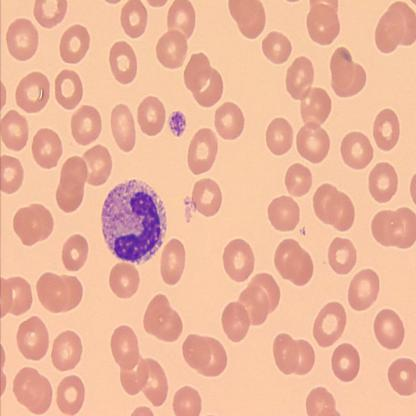Band Neutrophil: (99, 176, 169, 267)
